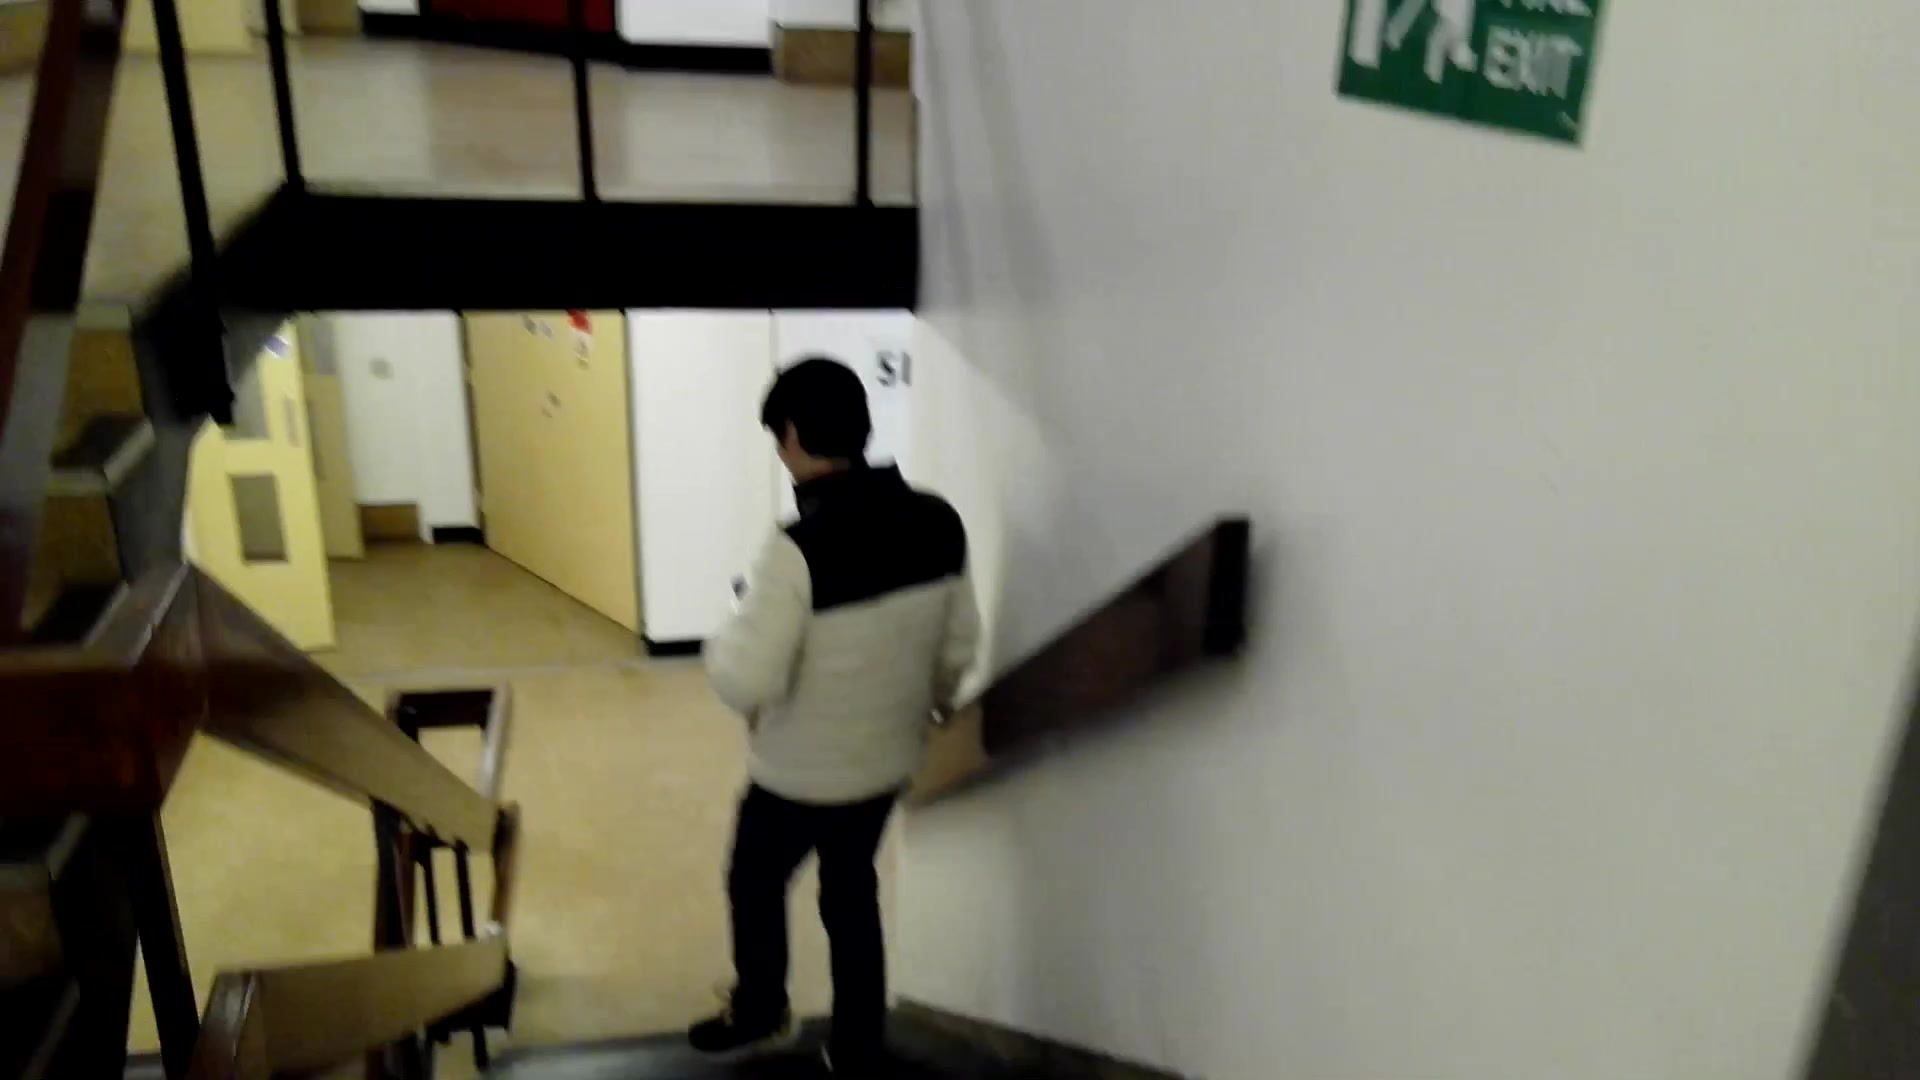Person: (746, 357, 929, 1043)
